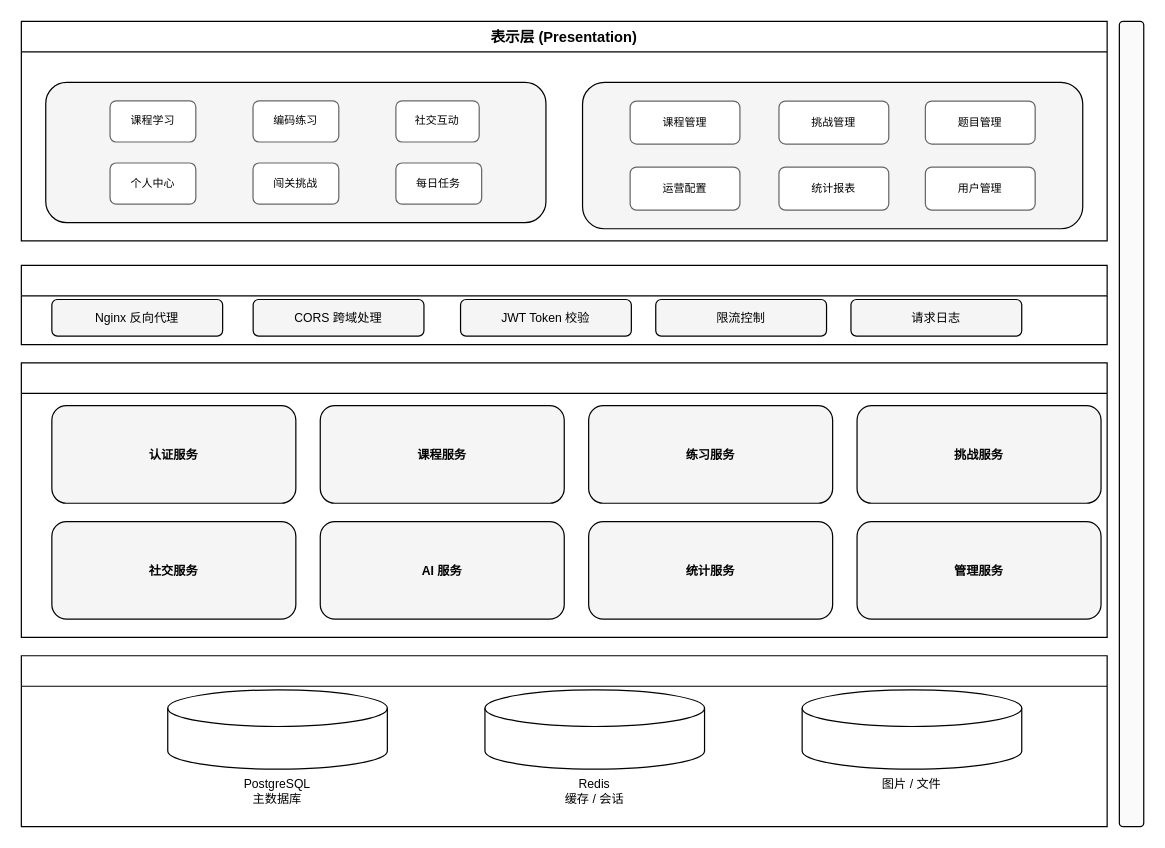
Some shapes in this 1165 by 848 pixel diagram are drawn without their labels. The shapes that lost their labels are listed below. From the top down, each one's box as (x1, y1, x2, y2) in pixels, then its label:
(45, 81, 546, 223): Flutter 移动客户端
(581, 81, 1083, 229): 管理后台端 (Vue 3)
(20, 264, 1107, 345): 网关层 (Gateway)
(1118, 20, 1144, 827): OpenAPI 工具链贯穿全栈：契约设计 → 文档生成 → 代码生成 → 契约测试 → 多端联调
(20, 362, 1107, 637): 服务层 (Service) — Rust / Salvo
(20, 655, 1107, 827): 数据层 (Data)
